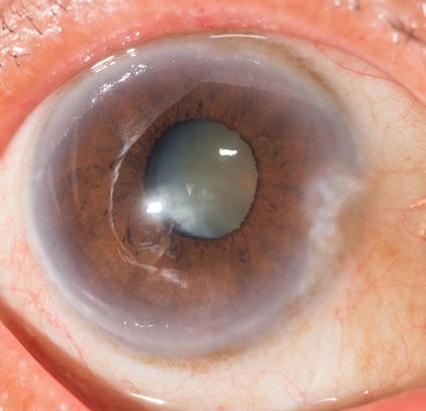eye: (34, 54, 359, 347)
